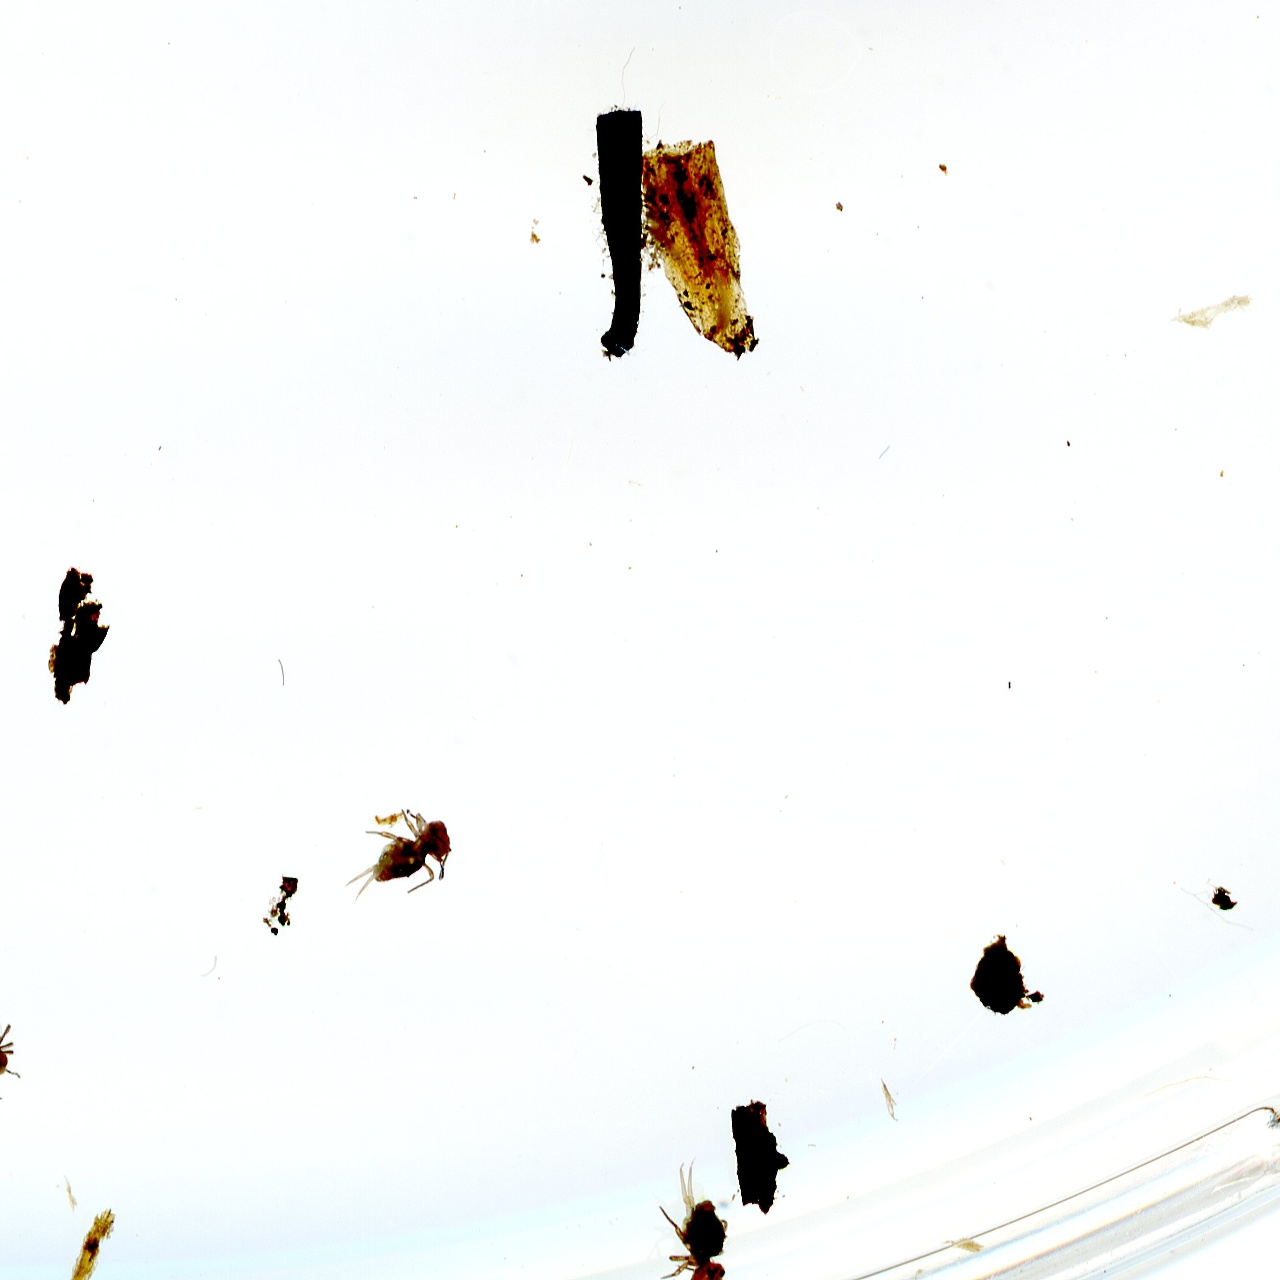arthropod: (343, 808, 462, 903), (654, 1146, 736, 1280), (0, 960, 38, 1117)
